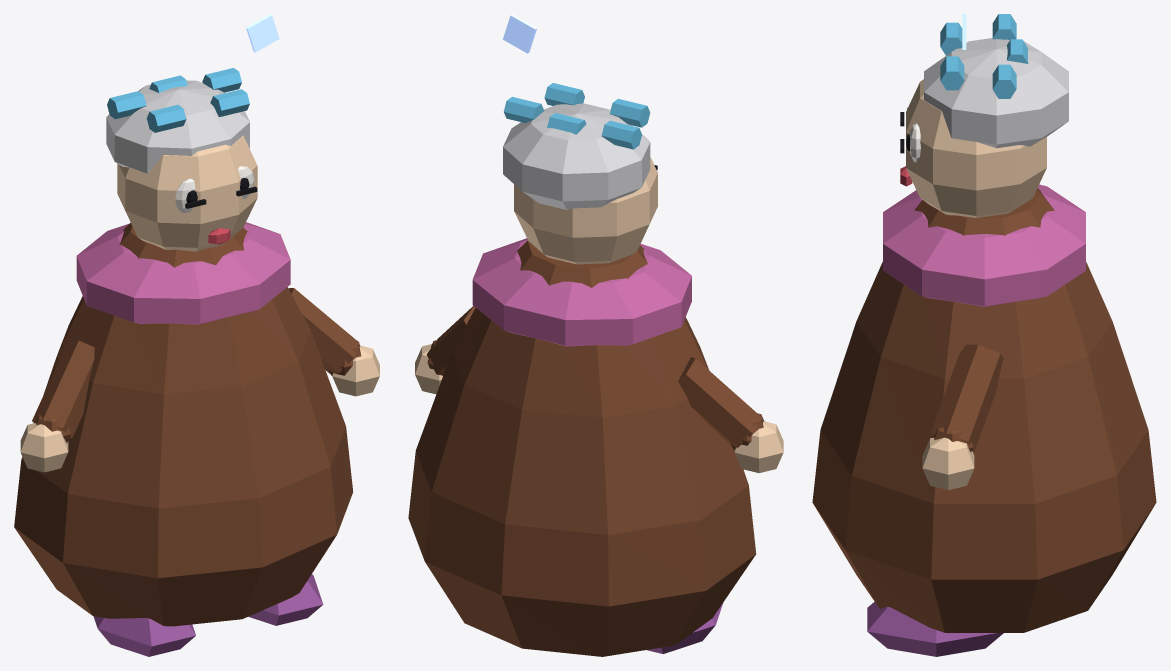
The model's file is npc_nebulosa.glb.
3 renders of one model, left to right at view 1: azimuth 30°, elevation 25°; view 2: azimuth 150°, elevation 25°; view 3: azimuth 270°, elevation 25°, orthographic. The views are drawn at different scales.
Parts seen in each view (by area): view 1: body_nebulosa_coat, body_nebulosa_shawl, head_skin_crema, hair_hair_grey, arms_nebulosa_coat, legs_slippers, hair_curler, arms_skin_crema, zzz_zzz, eyes_open_white; view 2: body_nebulosa_coat, body_nebulosa_shawl, hair_hair_grey, head_skin_crema, arms_nebulosa_coat, hair_curler, arms_skin_crema, zzz_zzz, legs_slippers; view 3: body_nebulosa_coat, body_nebulosa_shawl, hair_hair_grey, head_skin_crema, arms_nebulosa_coat, legs_slippers, hair_curler, arms_skin_crema.
Part boxes in pixels (left/top/right/bottom): body_nebulosa_coat: left=14, top=222, right=353, bottom=626; body_nebulosa_shawl: left=76, top=222, right=290, bottom=324; head_skin_crema: left=117, top=135, right=257, bottom=251; hair_hair_grey: left=106, top=80, right=249, bottom=173; arms_nebulosa_coat: left=32, top=288, right=361, bottom=442; legs_slippers: left=93, top=574, right=323, bottom=656; hair_curler: left=107, top=68, right=249, bottom=132; arms_skin_crema: left=20, top=346, right=379, bottom=472; zzz_zzz: left=246, top=14, right=279, bottom=52; eyes_open_white: left=175, top=166, right=254, bottom=212; body_nebulosa_coat: left=408, top=240, right=756, bottom=656; body_nebulosa_shawl: left=472, top=238, right=691, bottom=346; hair_hair_grey: left=503, top=103, right=650, bottom=209; head_skin_crema: left=514, top=157, right=657, bottom=264; arms_nebulosa_coat: left=427, top=306, right=764, bottom=449; hair_curler: left=503, top=83, right=650, bottom=149; arms_skin_crema: left=415, top=344, right=783, bottom=473; zzz_zzz: left=503, top=14, right=536, bottom=53; legs_slippers: left=647, top=603, right=722, bottom=653; body_nebulosa_coat: left=812, top=188, right=1156, bottom=632; body_nebulosa_shawl: left=883, top=184, right=1085, bottom=306; hair_hair_grey: left=924, top=38, right=1068, bottom=148; head_skin_crema: left=906, top=79, right=1046, bottom=218; arms_nebulosa_coat: left=930, top=344, right=1003, bottom=451; legs_slippers: left=867, top=602, right=1003, bottom=656; hair_curler: left=940, top=14, right=1028, bottom=98; arms_skin_crema: left=922, top=437, right=974, bottom=490.
Bounding box in the file's own units: 1.13 × 1.76 × 0.86.
